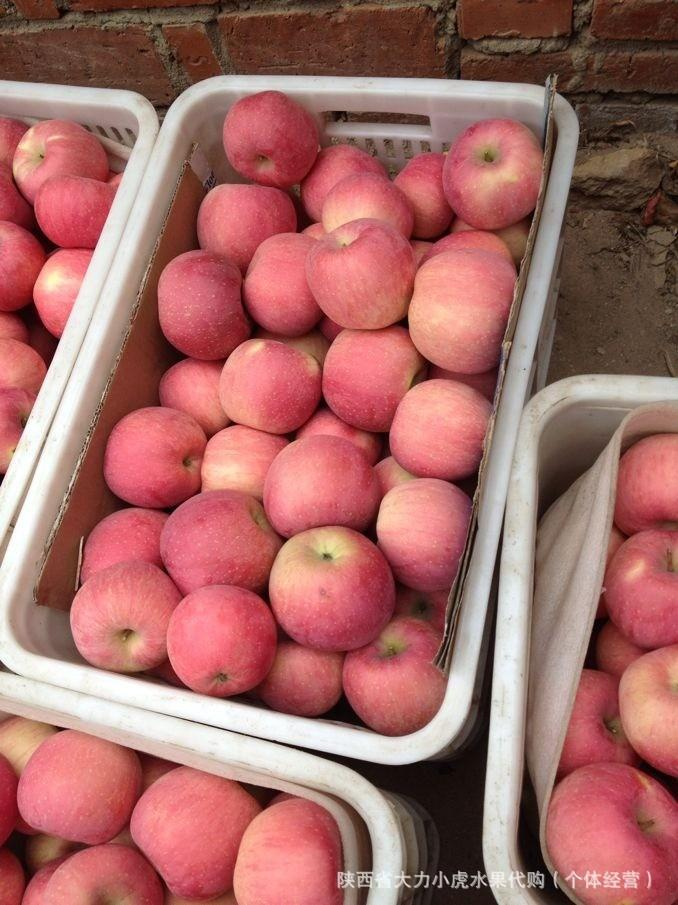apple: (546, 758, 677, 897), (132, 768, 261, 896), (270, 526, 397, 653), (19, 724, 141, 851), (407, 248, 517, 372), (266, 433, 383, 540), (340, 617, 446, 734), (67, 564, 177, 676), (167, 586, 277, 696), (160, 487, 273, 594), (234, 796, 343, 902), (441, 117, 542, 231), (311, 218, 412, 328), (374, 476, 471, 590), (386, 379, 488, 481), (157, 248, 250, 358), (598, 527, 677, 647), (103, 406, 203, 500), (552, 669, 633, 784), (221, 92, 320, 185), (219, 337, 319, 429), (616, 645, 677, 779), (10, 116, 110, 195), (200, 182, 294, 258), (35, 175, 113, 243), (32, 249, 91, 338)
